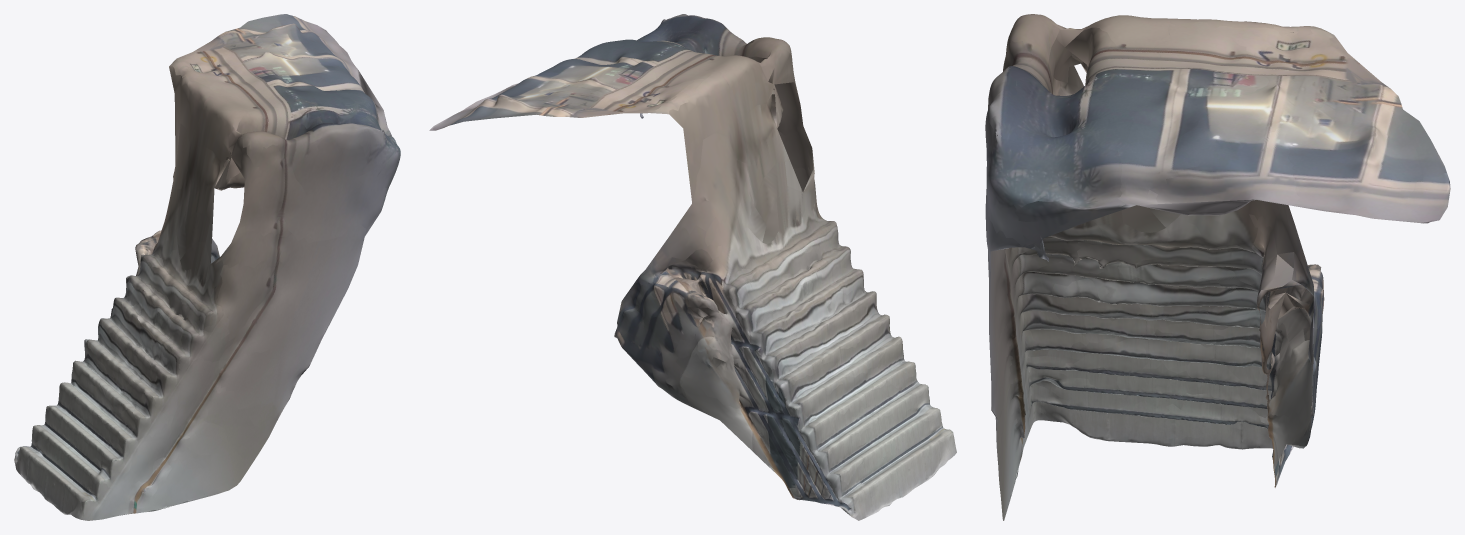
3 renders of one model, left to right at view 1: azimuth 30°, elevation 25°; view 2: azimuth 150°, elevation 25°; view 3: azimuth 270°, elevation 25°, orthographic. The views are drawn at different scales.
Parts seen in each view (by area): view 1: Untitled; view 2: Untitled; view 3: Untitled.
Part boxes in pixels (x1=…): Untitled: x1=14, y1=14, x2=400, y2=520; Untitled: x1=429, y1=14, x2=956, y2=520; Untitled: x1=985, y1=14, x2=1450, y2=520.
Size of the model in its own units: 204 by 189 by 143.
Materials: 1 (1 with a texture image).
